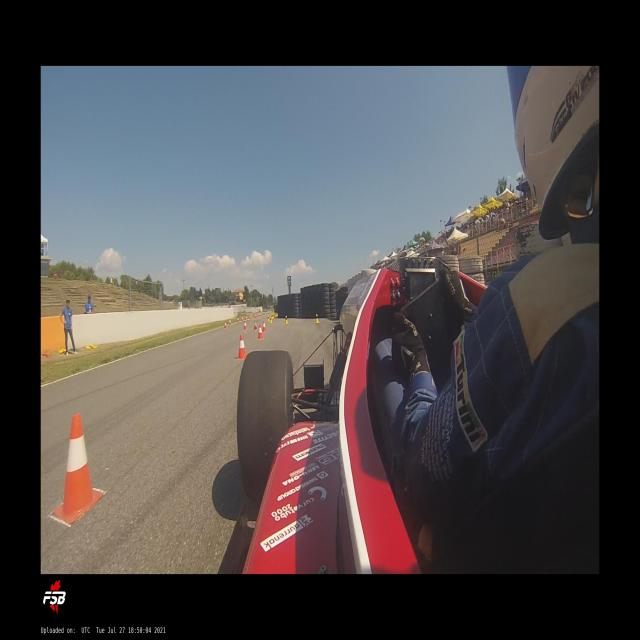orange_cone: (54, 414, 103, 524), (237, 334, 246, 360), (257, 324, 263, 339), (262, 321, 266, 332), (253, 321, 257, 330), (243, 322, 247, 329), (224, 321, 227, 328), (229, 319, 231, 325)
yellow_cone: (315, 314, 319, 324), (285, 315, 288, 324), (267, 316, 270, 322), (270, 316, 272, 324)
